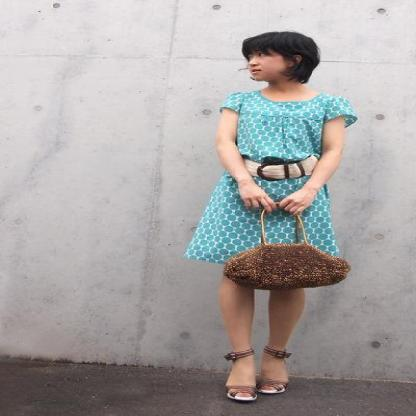bag: (224, 242, 350, 290)
dress: (184, 93, 357, 264)
shoe: (224, 350, 284, 399)
